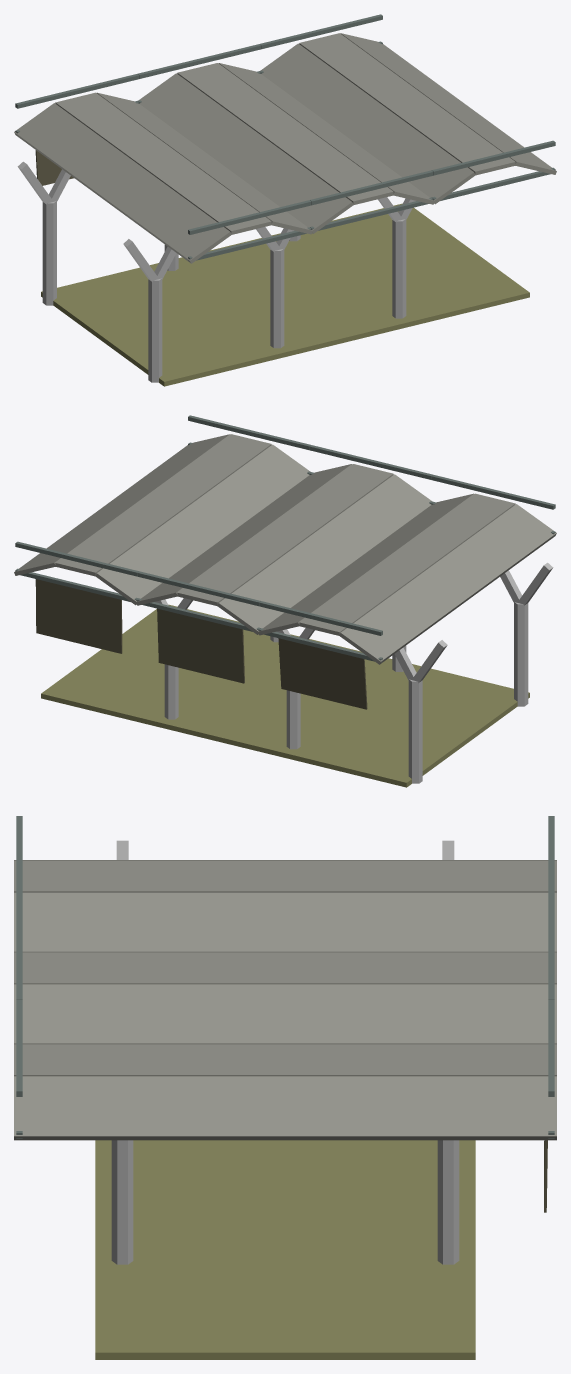
The model's file is SM_MarquesinaBus_v3_Lonas_e0_Sano_LOD1.fbx.
3 renders of one model, top to bottom at view 1: azimuth 30°, elevation 25°; view 2: azimuth 150°, elevation 25°; view 3: azimuth 270°, elevation 25°, orthographic. The views are drawn at different scales.
Parts seen in each view (by area): view 1: SM_marquesina_bus_v12_LOD1; view 2: SM_marquesina_bus_v12_LOD1; view 3: SM_marquesina_bus_v12_LOD1.
Part boxes in pixels (box(x1,y1,x2,y2)): SM_marquesina_bus_v12_LOD1: box(14, 14, 556, 386); SM_marquesina_bus_v12_LOD1: box(14, 415, 556, 787); SM_marquesina_bus_v12_LOD1: box(14, 816, 556, 1359).
Size of the model in its own units: 13.01 by 5.46 by 10.
